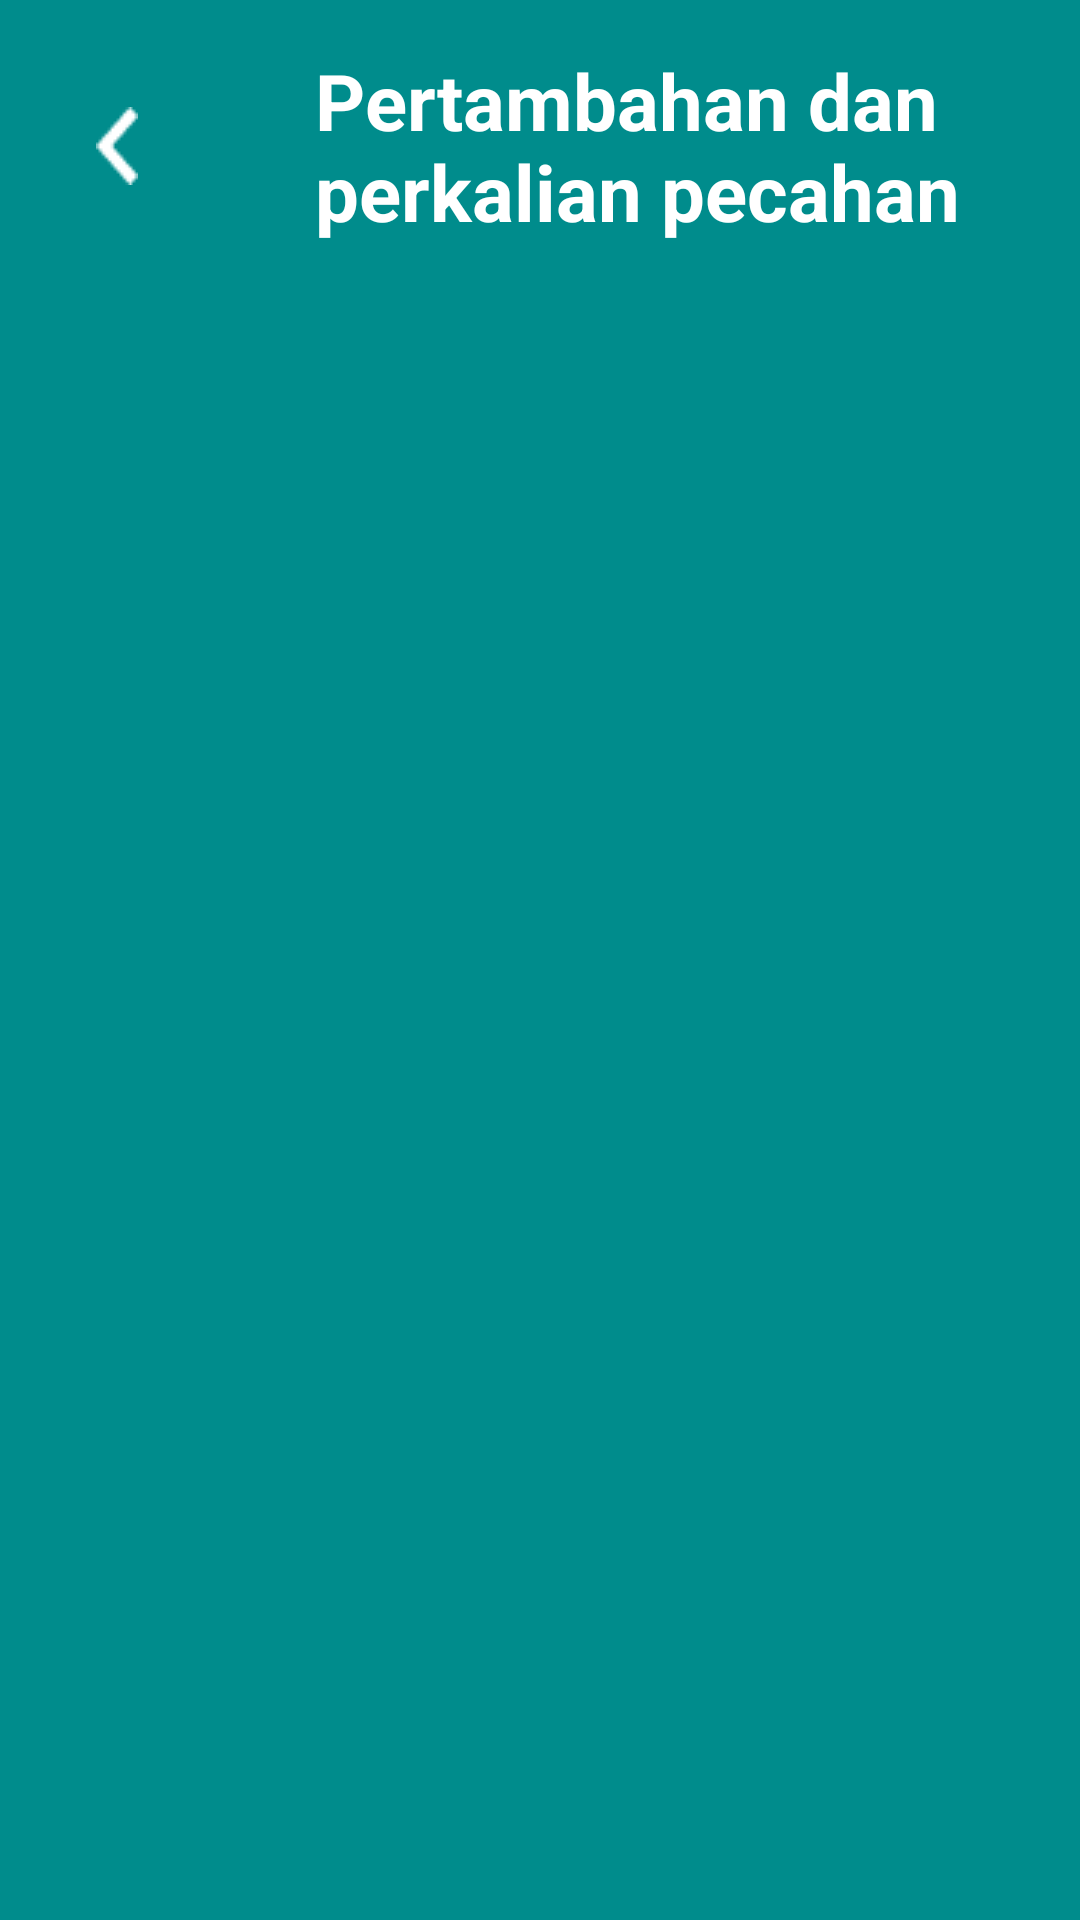

Named icons in this screenshot (1080×1920) and their centers, [x,y]:
chevron: [117,146]
